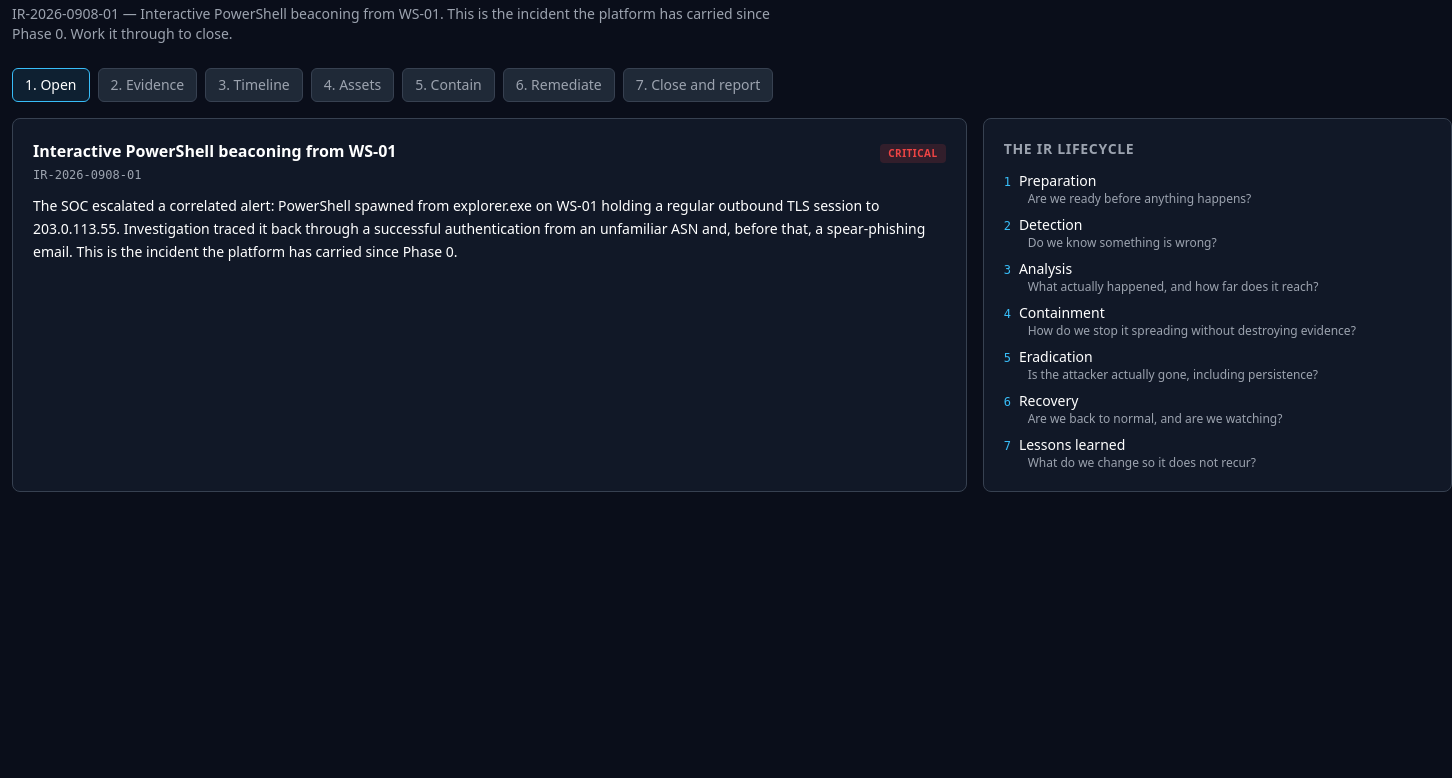
Test case: Incident Console › scores asset selection and names what was missed
Click the button "4. Assets" at (352, 85), box [311,68,394,102]
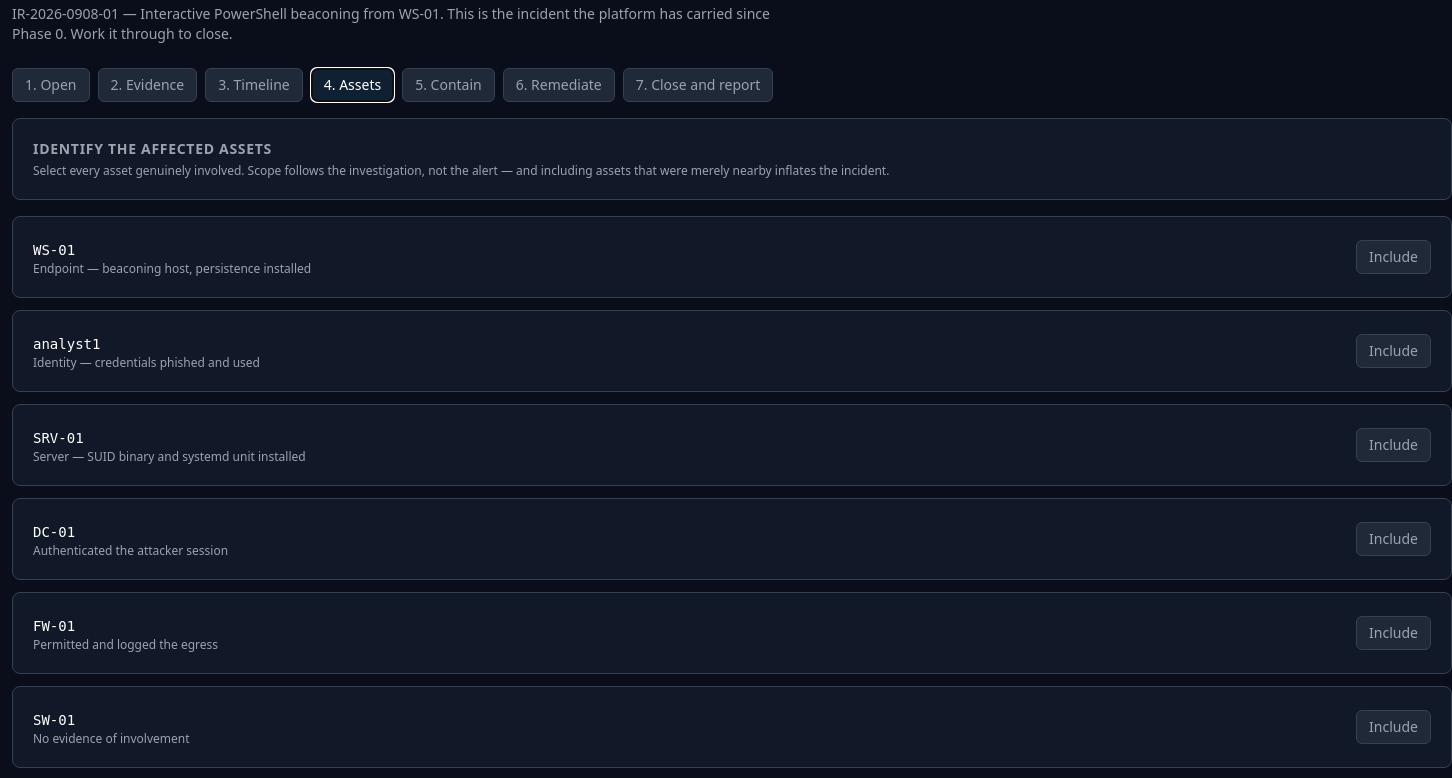
Click the button with aria-label "Include WS-01" at (1394, 257), box [1356,240,1431,274]
(page scrolled)
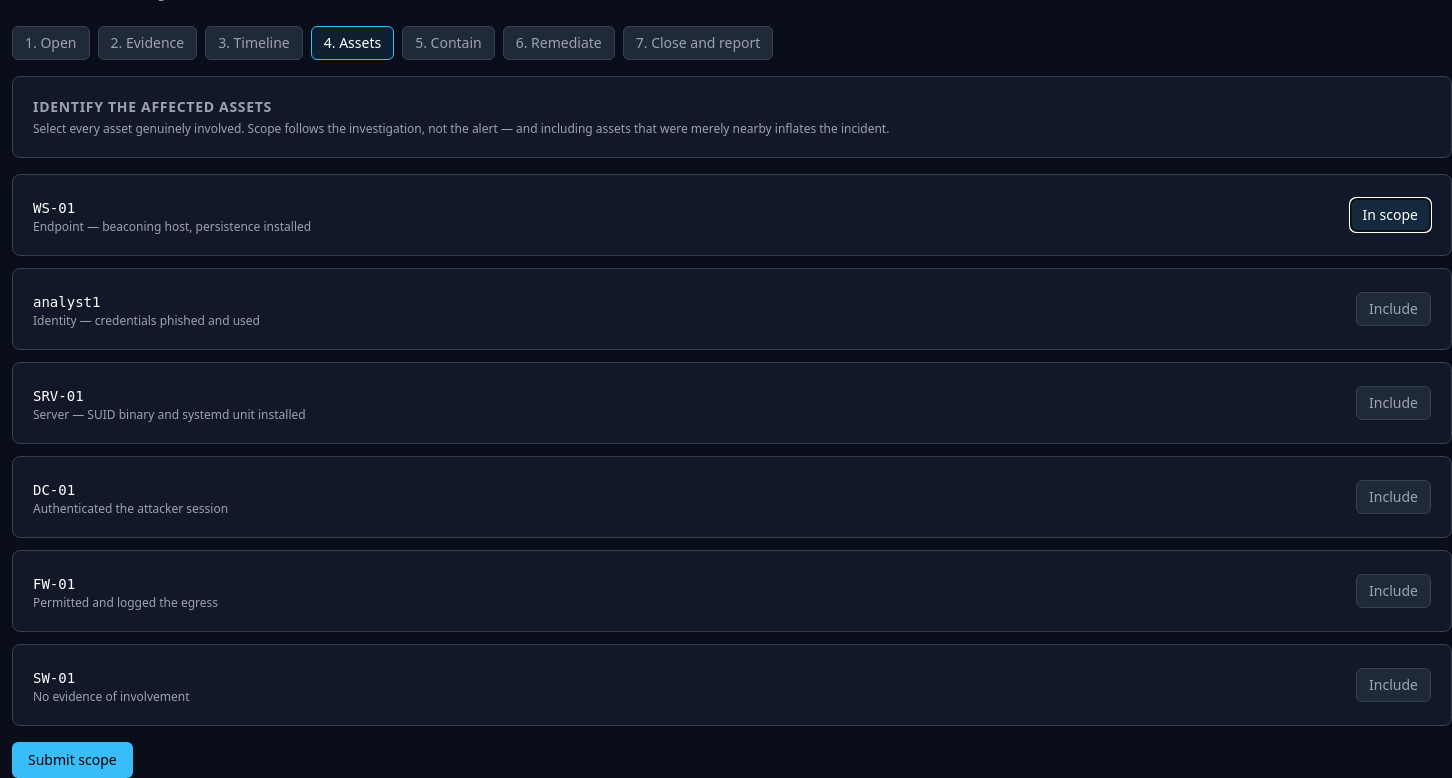
Click the button "Submit scope" at (72, 760), box [12,742,133,777]
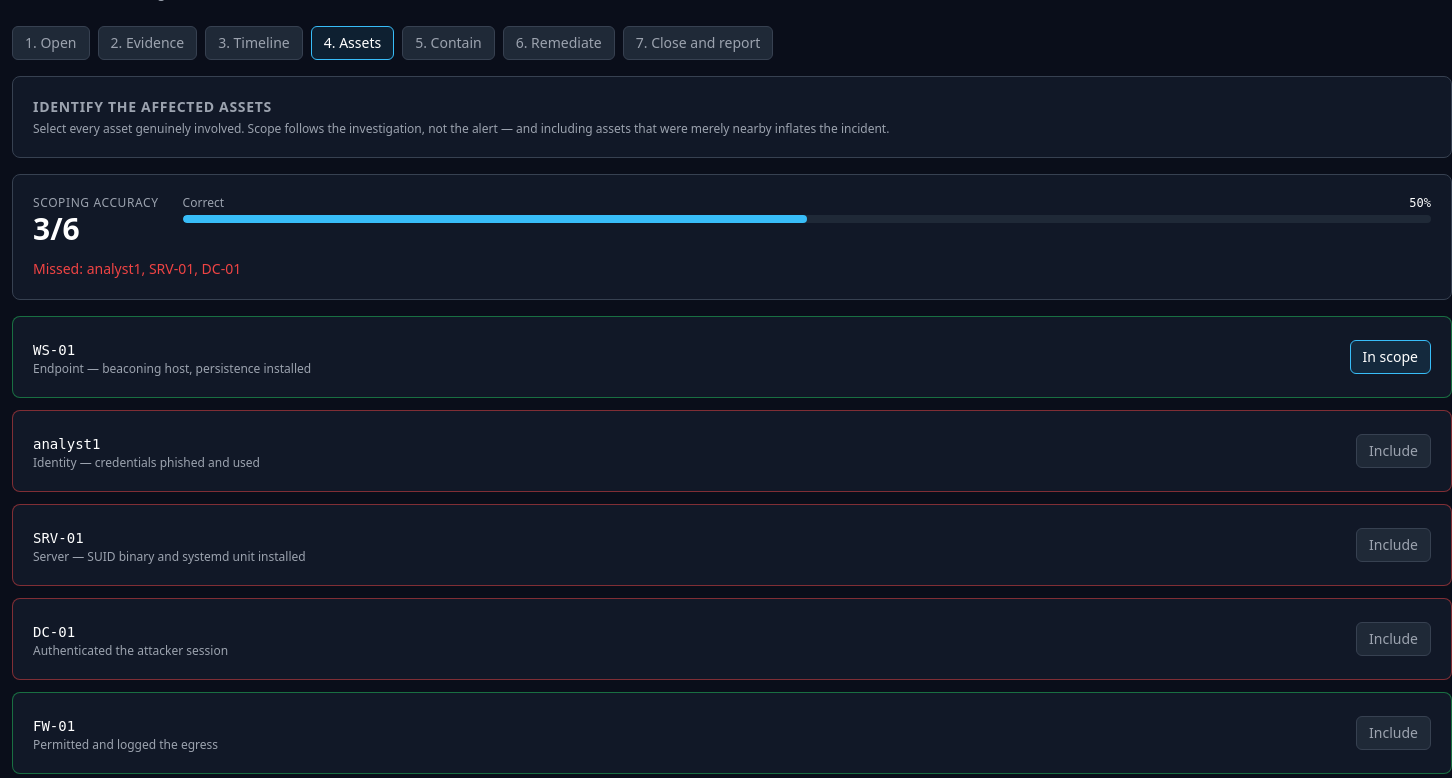
expect the text with test id "assets-missed" shows "SRV-01": met, box [87,259,241,278]
